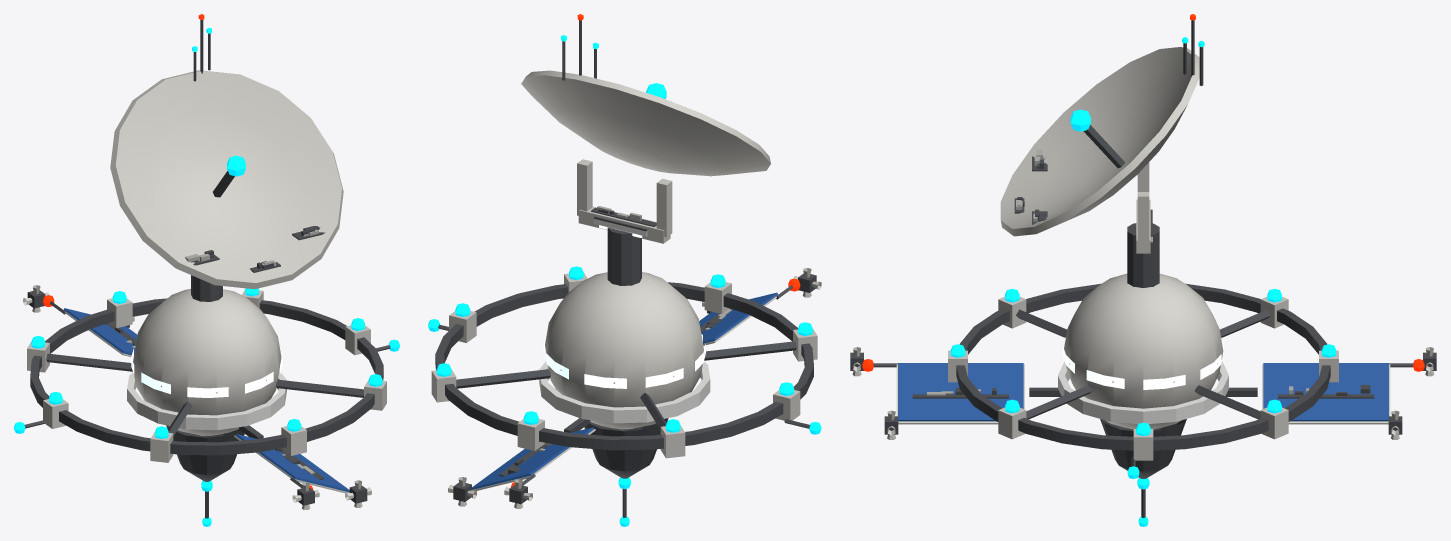
File: research_station.glb
3 renders of one model, left to right at view 1: azimuth 30°, elevation 25°; view 2: azimuth 150°, elevation 25°; view 3: azimuth 270°, elevation 25°, orthographic. The views are drawn at different scales.
Visible parts, largest first — view 1: research_station; view 2: research_station; view 3: research_station.
Boxes of the visible parts, x1,y1,x2,y2 form: research_station: (14,14,399,526); research_station: (428,14,821,526); research_station: (850,14,1436,526).
Size of the model in its own units: 1.55 by 1.94 by 1.97.
